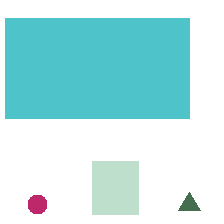circle: (28, 195, 46, 213)
rectangle: (5, 18, 189, 118), (92, 161, 138, 214)
triangle: (178, 192, 200, 210)
